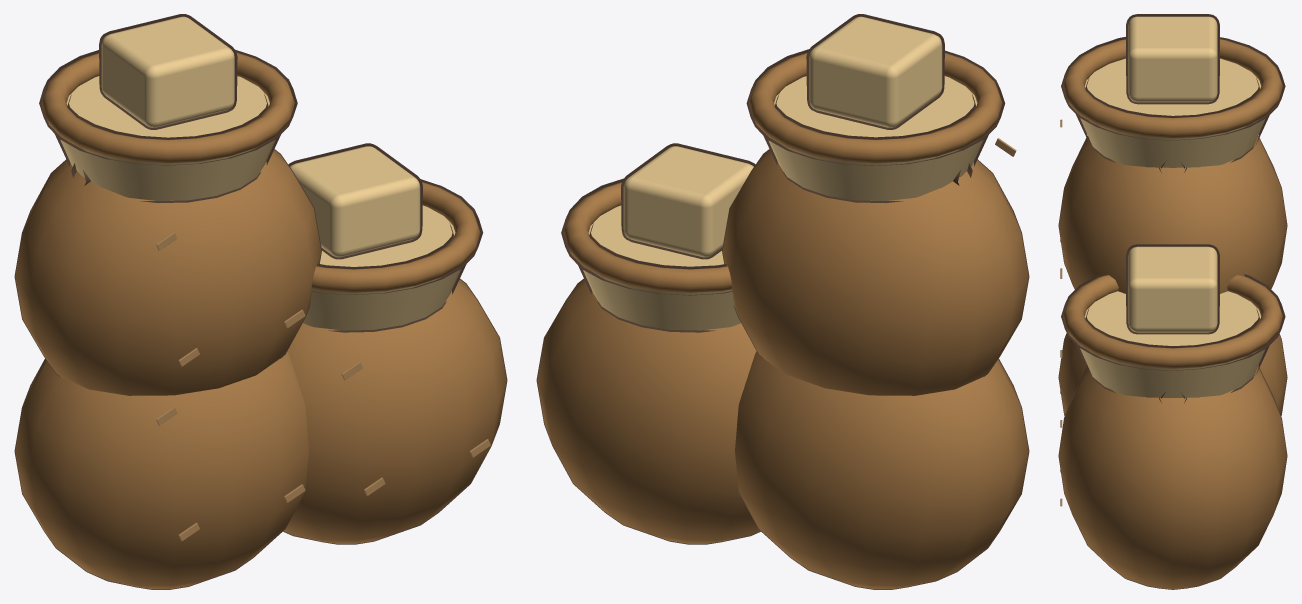
The model's file is prop_40017.glb.
3 renders of one model, left to right at view 1: azimuth 30°, elevation 25°; view 2: azimuth 150°, elevation 25°; view 3: azimuth 270°, elevation 25°, orthographic. The views are drawn at different scales.
Parts seen in each view (by area): view 1: prop_40017; view 2: prop_40017; view 3: prop_40017.
Boxes of the visible parts, <box> form: prop_40017: <box>14,14,507,589</box>; prop_40017: <box>536,14,1029,589</box>; prop_40017: <box>1058,14,1287,589</box>.
Bounding box in the file's own units: 0.7454 × 0.83 × 0.3674.
